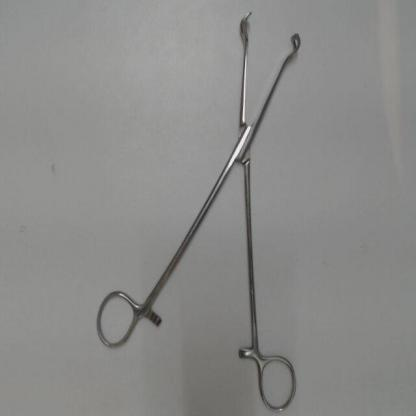8 Babcock Tissue Forceps: (92, 5, 305, 414)
